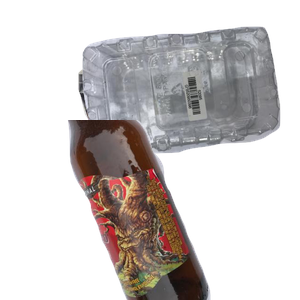glass: (65, 120, 300, 300)
metal: (75, 56, 198, 185)
plastic: (80, 24, 300, 172)
trash: (103, 147, 300, 300)
